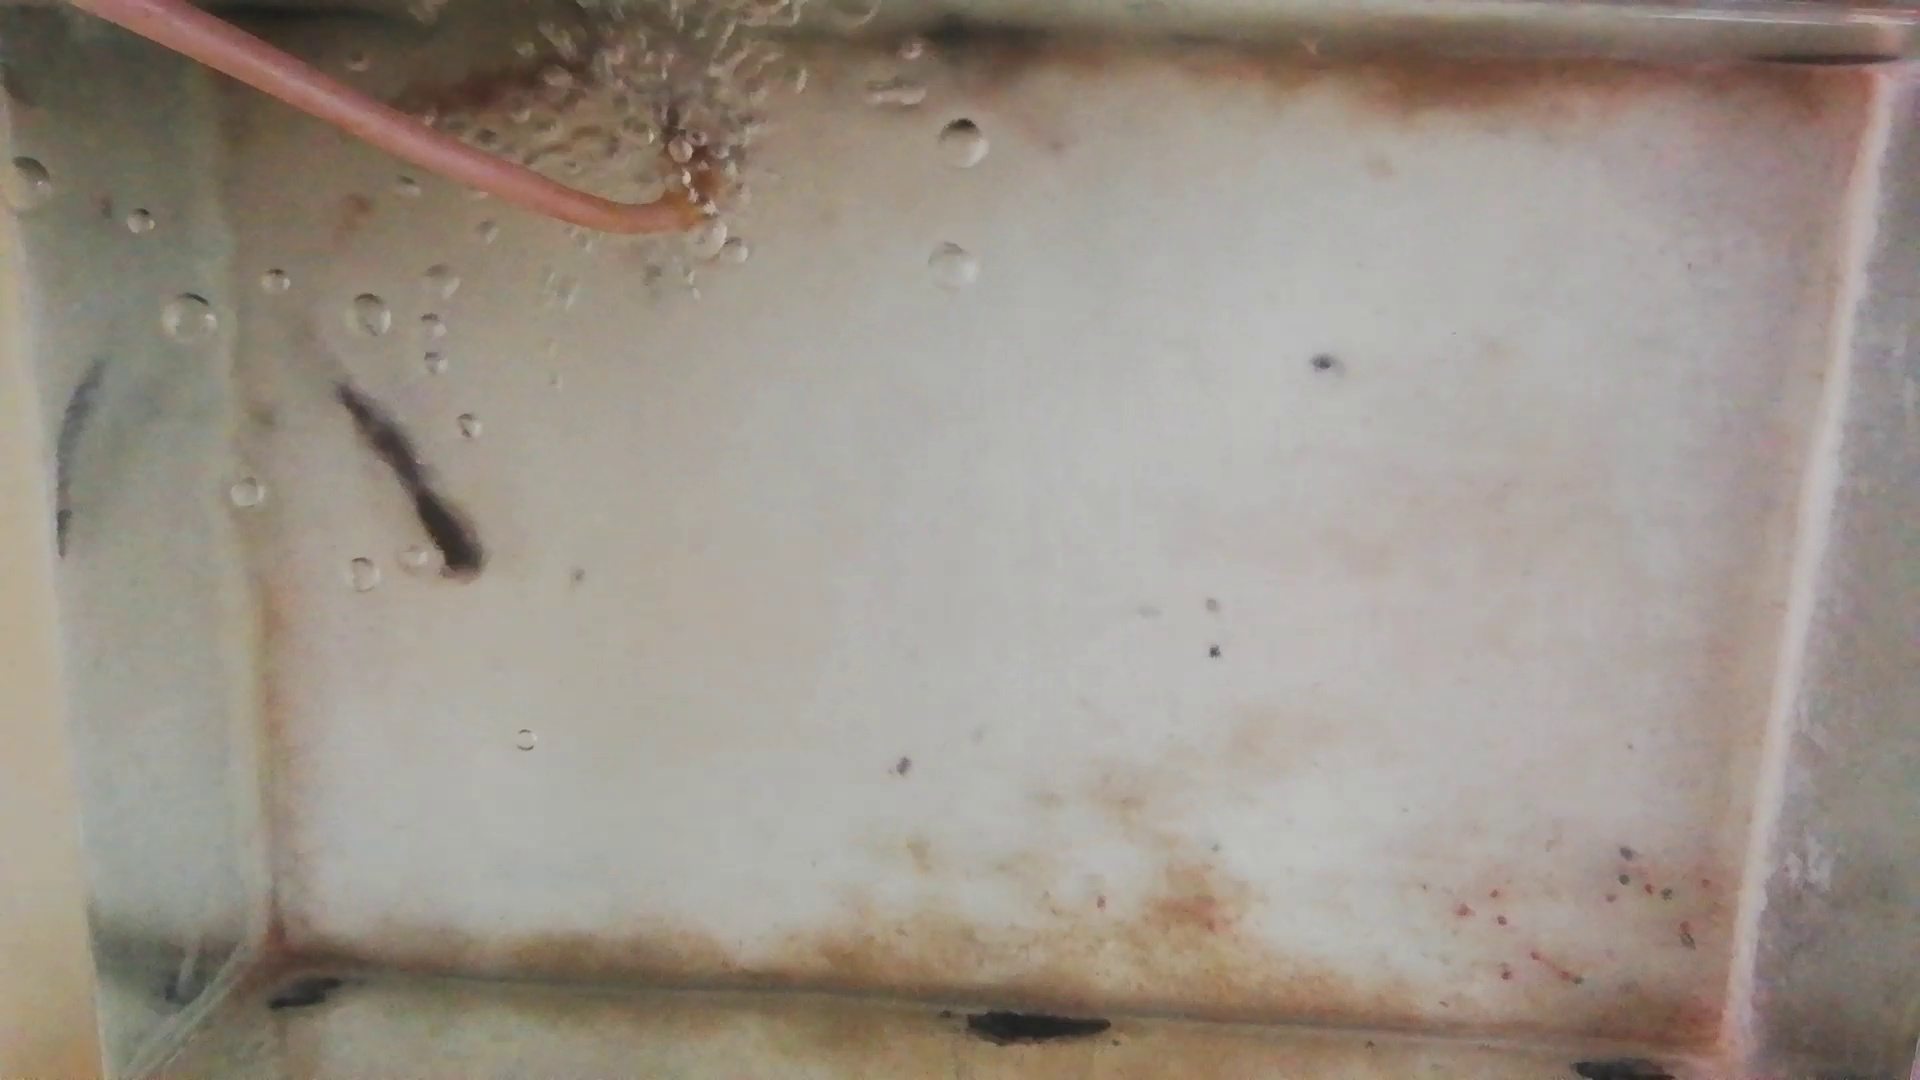fish: (331, 375, 485, 582), (382, 61, 597, 115)
